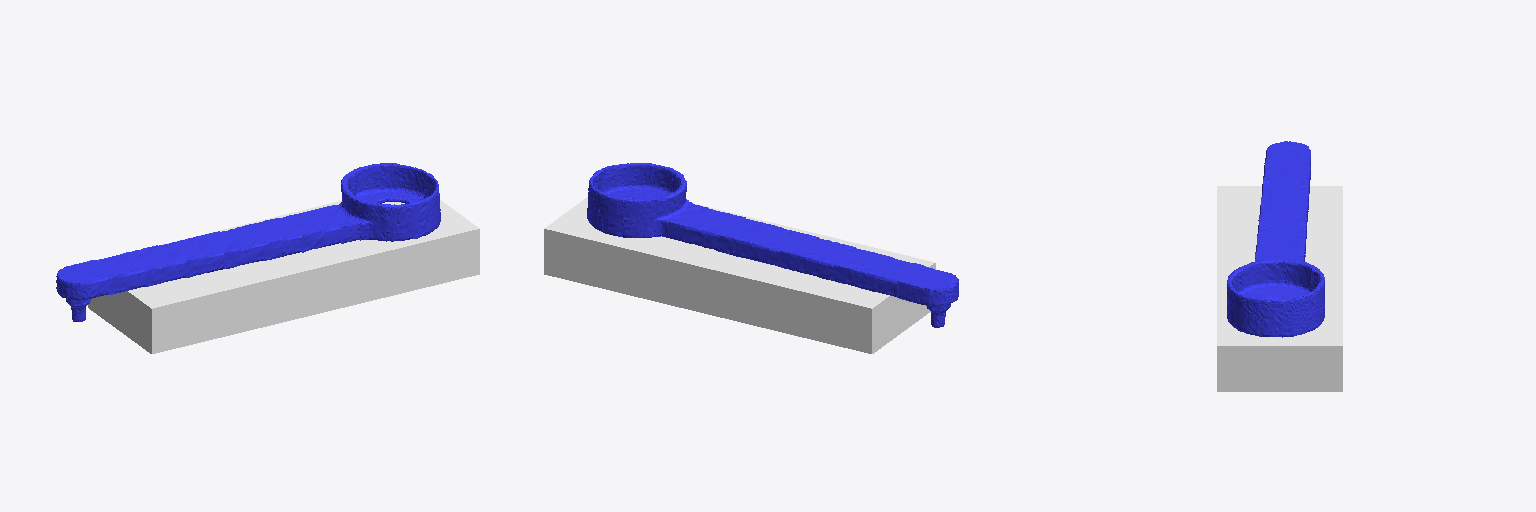
The model's file is bras.obj.
3 views of the same model, side by side, from view 1: azimuth 30°, elevation 25°; view 2: azimuth 150°, elevation 25°; view 3: azimuth 270°, elevation 25° (orthographic).
Parts seen in each view (by area): view 1: Cube; view 2: Cube; view 3: Cube.
Boxes of the visible parts, box(x1,y1,x2,y2) form: Cube: box(56, 163, 479, 353); Cube: box(544, 163, 958, 353); Cube: box(1217, 141, 1342, 391).
Size of the model in its own units: 352 by 73.85 by 100.